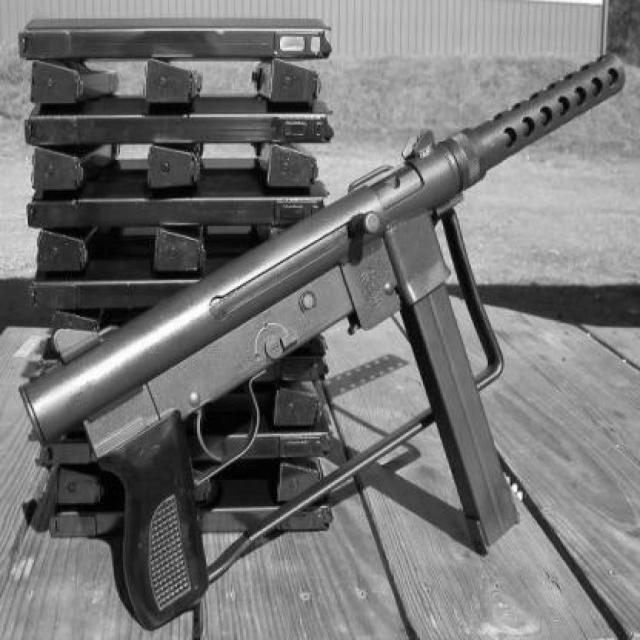weapon: (16, 54, 630, 629)
